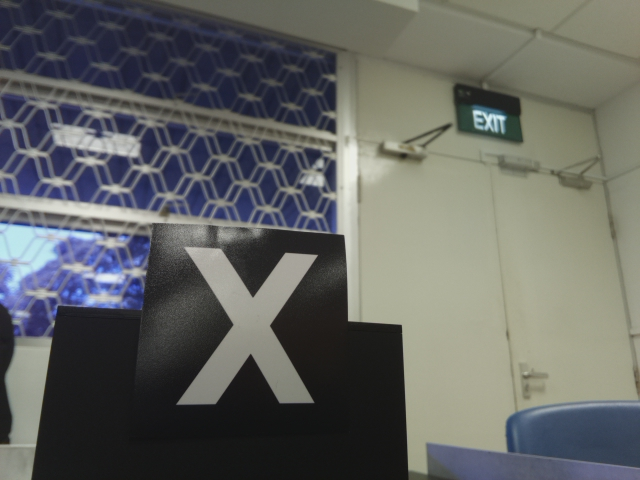x: (169, 237, 320, 418)
